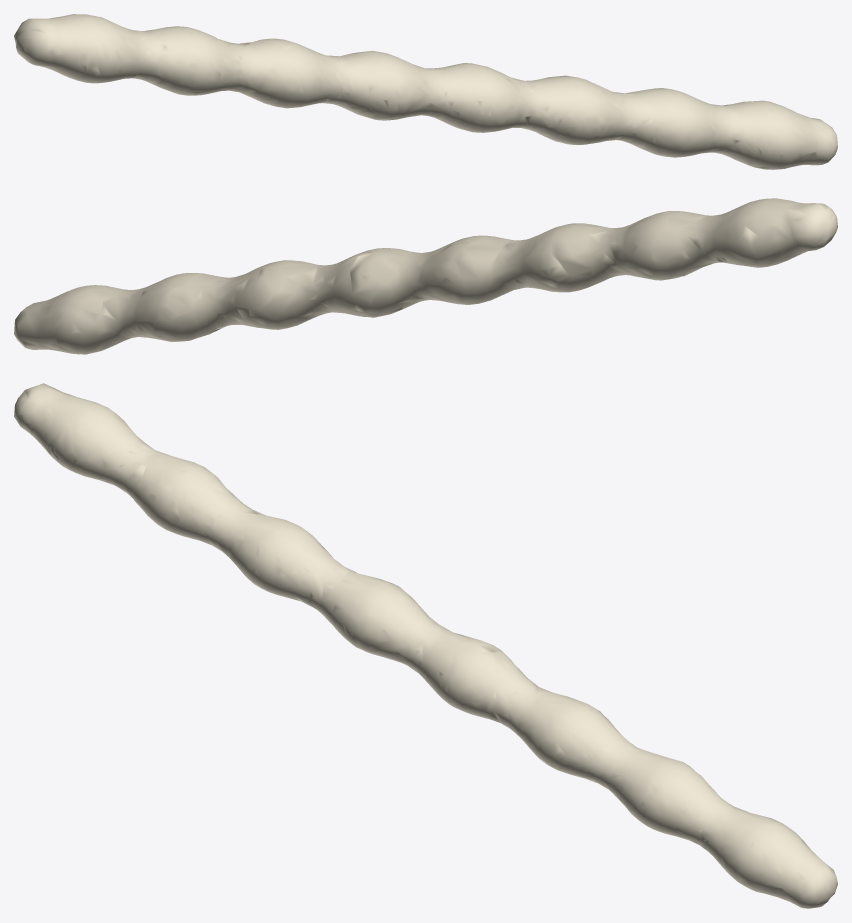
The model's file is sternum.glb.
The picture shows the model from 3 angles, top to bottom: view 1: azimuth 30°, elevation 25°; view 2: azimuth 150°, elevation 25°; view 3: azimuth 330°, elevation 25°; orthographic projection.
Parts seen in each view (by area): view 1: geometry_0; view 2: geometry_0; view 3: geometry_0.
Part boxes in pixels (x1,y1,x2,y2): geometry_0: [14, 14, 837, 169]; geometry_0: [14, 198, 837, 354]; geometry_0: [14, 383, 837, 908].
Bounding box in the file's own units: 0.9472 × 0.3663 × 0.0895.
